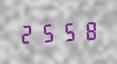eight: (78, 18, 97, 41)
five: (38, 21, 57, 44), (58, 20, 77, 42)
two: (18, 22, 37, 45)
